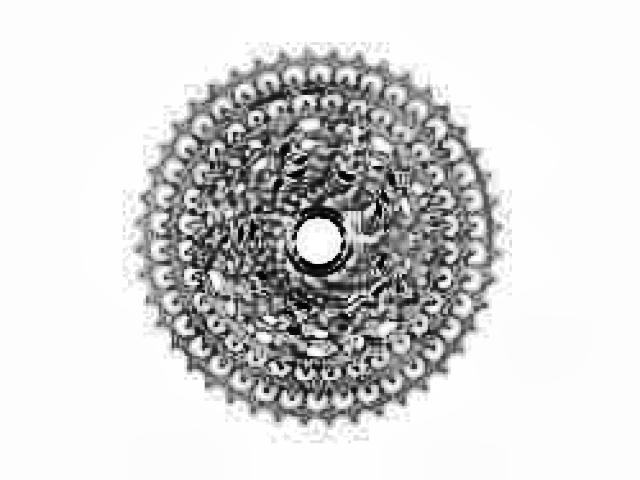cassette: (135, 47, 506, 428)
